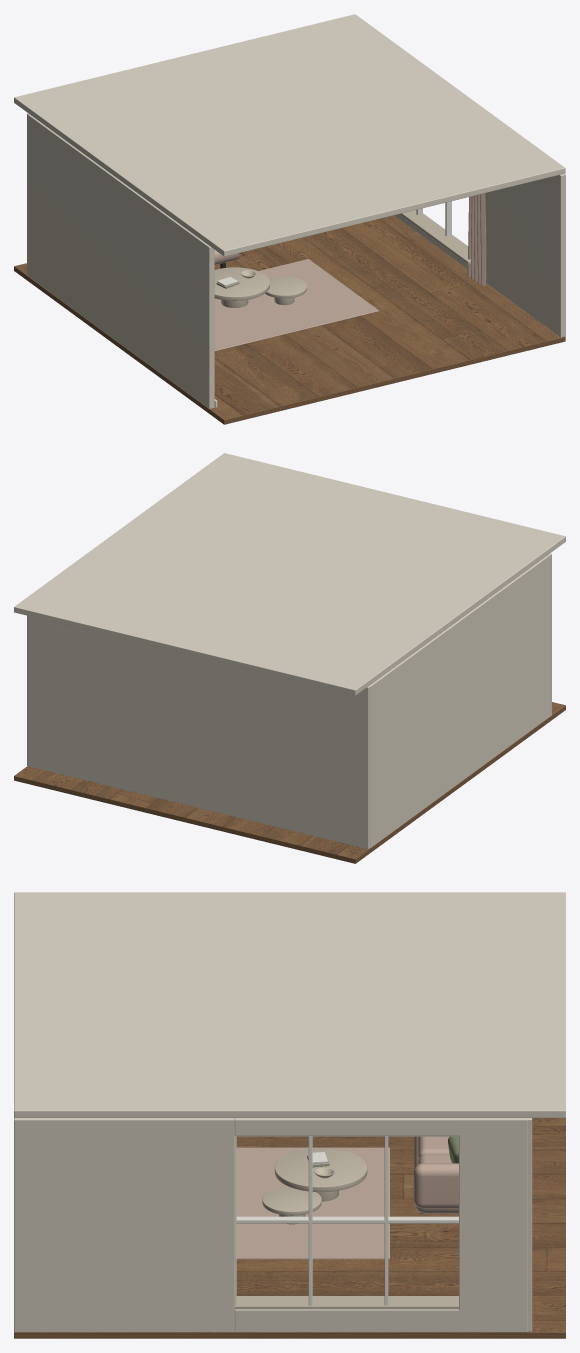
The model's file is room.glb.
3 views of the same model, one above another, from view 1: azimuth 30°, elevation 25°; view 2: azimuth 150°, elevation 25°; view 3: azimuth 270°, elevation 25° (orthographic). The views are drawn at different scales.
Parts seen in each view (by area): view 1: ceiling, floor, wall_left, wall_right_front, Wool rug, Curtain, Table top, Window stone sill, Small table top; view 2: ceiling, wall_back, wall_left, floor; view 3: ceiling, wall_right_front, floor, wall_right_back, Wool rug, wall_right_sill, wall_right_header, Window stone sill, Table top, Rounded sofa arm.001, Window transom.001, Small table top (+4 smaller).
Boxes of the visible parts, <box> form: ceiling: <box>14,14,565,256</box>; floor: <box>14,215,565,424</box>; wall_left: <box>28,114,214,408</box>; wall_right_front: <box>485,173,565,337</box>; Wool rug: <box>214,259,378,351</box>; Curtain: <box>467,193,486,286</box>; Table top: <box>214,267,269,300</box>; Window stone sill: <box>399,210,470,264</box>; Small table top: <box>265,276,306,298</box>; ceiling: <box>14,453,565,695</box>; wall_back: <box>27,615,370,849</box>; wall_left: <box>370,553,551,848</box>; floor: <box>14,702,565,863</box>; ceiling: <box>14,892,565,1117</box>; wall_right_front: <box>14,1118,234,1332</box>; floor: <box>14,1118,565,1338</box>; wall_right_back: <box>459,1118,527,1332</box>; Wool rug: <box>236,1147,389,1259</box>; wall_right_sill: <box>234,1309,461,1332</box>; wall_right_header: <box>234,1118,461,1135</box>; Window stone sill: <box>234,1296,458,1309</box>; Table top: <box>274,1148,367,1192</box>; Rounded sofa arm.001: <box>413,1163,458,1208</box>; Window transom.001: <box>236,1216,458,1223</box>; Small table top: <box>262,1187,321,1215</box>.
Bounding box in the file's own units: 7.52 × 3.65 × 8.
12 materials, 3 textured.
